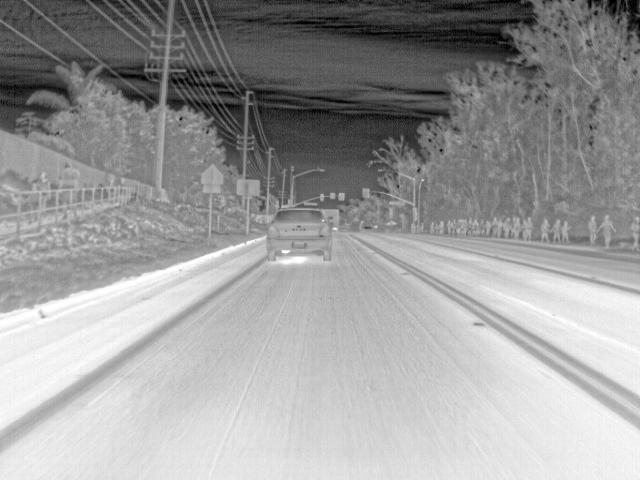car: (268, 208, 334, 263), (361, 222, 375, 234)
person: (601, 213, 615, 248), (587, 214, 599, 244), (630, 216, 640, 250), (539, 218, 552, 243), (562, 220, 571, 244), (553, 220, 562, 243), (523, 216, 531, 239), (503, 218, 511, 238), (459, 218, 467, 236), (513, 219, 520, 238), (453, 218, 460, 236), (468, 218, 474, 236), (493, 218, 499, 236), (473, 218, 479, 234), (429, 222, 436, 234), (439, 222, 446, 234), (486, 220, 492, 234), (447, 220, 453, 232)
